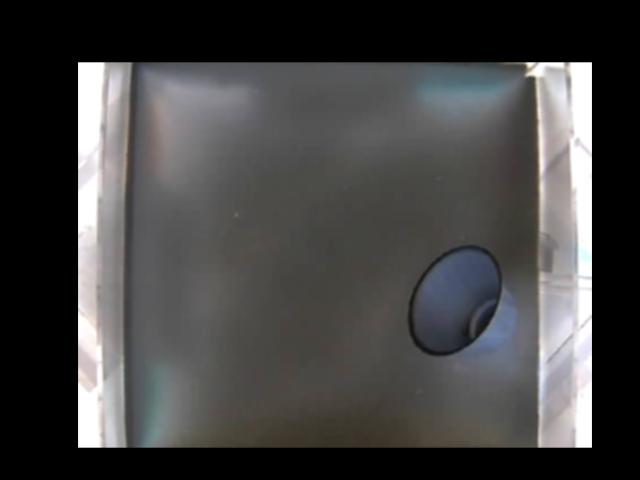Cup: (407, 243, 518, 360)
